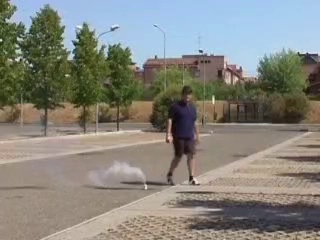smoke: (83, 159, 148, 190)
